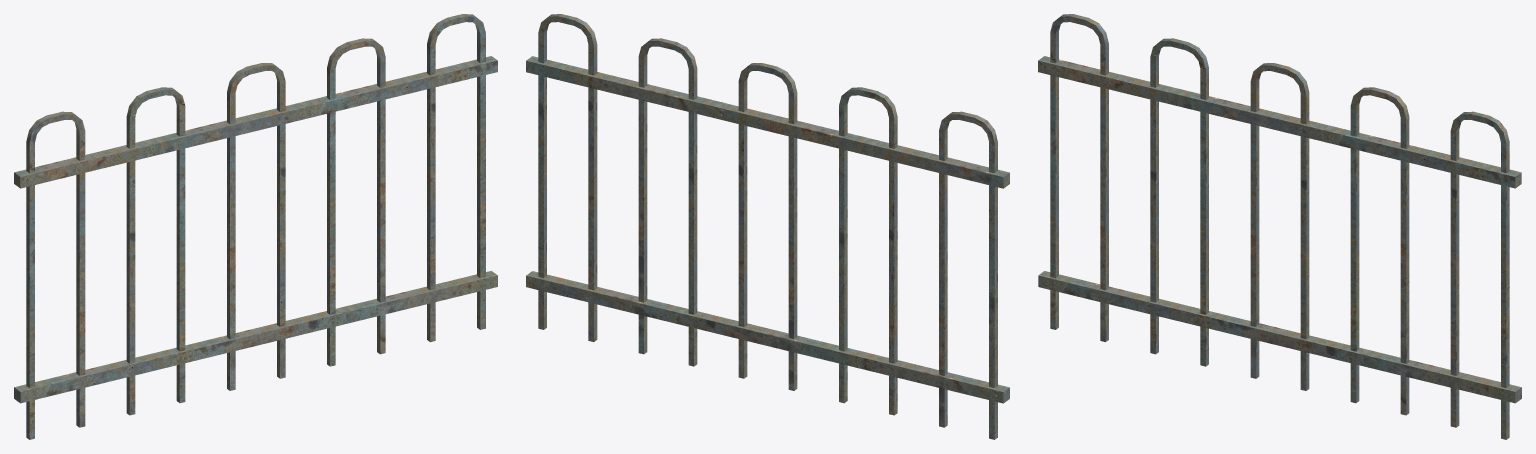
Rendered from fence06.FBX.
3 renders of one model, left to right at view 1: azimuth 30°, elevation 25°; view 2: azimuth 150°, elevation 25°; view 3: azimuth 330°, elevation 25°, orthographic.
Visible parts, largest first — view 1: metal_fence_small_loop_top; view 2: metal_fence_small_loop_top; view 3: metal_fence_small_loop_top.
Part boxes in pixels (left/top/right/bottom): metal_fence_small_loop_top: left=14, top=14, right=497, bottom=439; metal_fence_small_loop_top: left=526, top=14, right=1009, bottom=439; metal_fence_small_loop_top: left=1038, top=14, right=1521, bottom=439.
Bounding box in the file's own units: 273 × 173 × 6.31.
